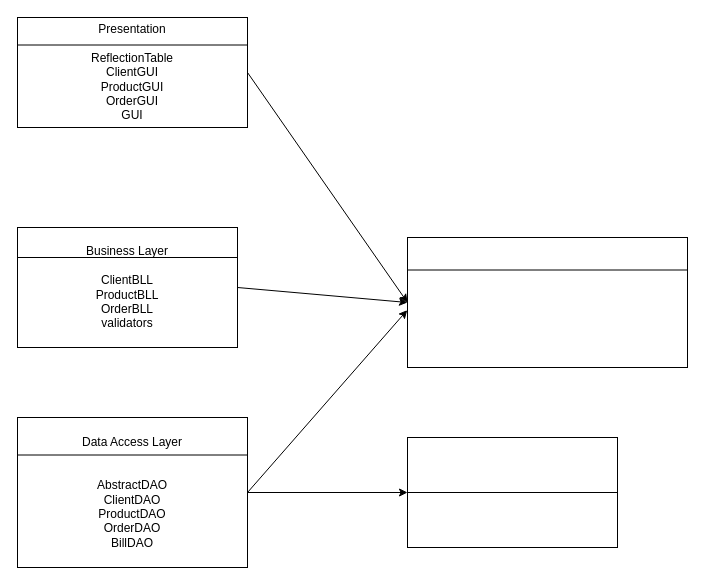
Some shapes in this 706 by 585 pixel diagram are drawn without their labels. Each missing label, with the centre of its shape:
"Connection ConnectionFactory" belongs at pixel 512 492.
"Model Client Product Orders Bill" belongs at pixel 547 302.
